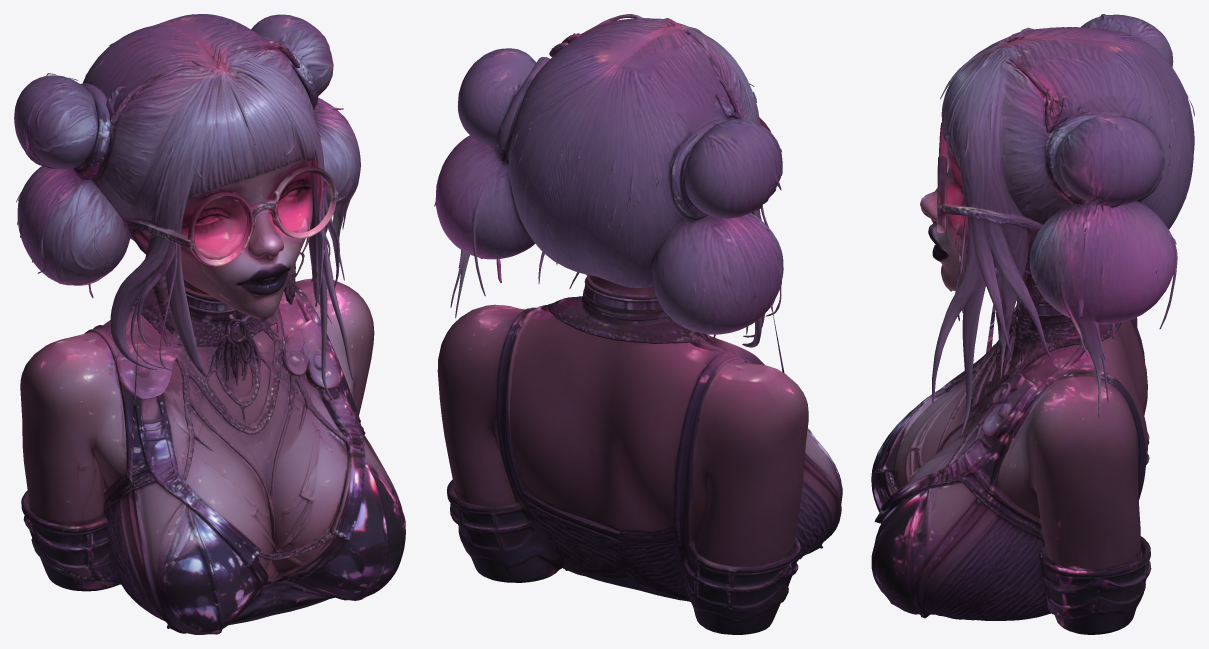
File: girl-26.glb
3 views of the same model, side by side, from view 1: azimuth 30°, elevation 25°; view 2: azimuth 150°, elevation 25°; view 3: azimuth 270°, elevation 25° (orthographic). The views are drawn at different scales.
Visible parts, largest first — view 1: node_0; view 2: node_0; view 3: node_0.
Part boxes in pixels (left/top/right/bottom): node_0: left=14, top=14, right=405, bottom=634; node_0: left=434, top=14, right=842, bottom=634; node_0: left=871, top=14, right=1194, bottom=634.
Bounding box in the file's own units: 0.6974 × 1.06 × 0.5775.
Materials: 1 (1 with a texture image).
